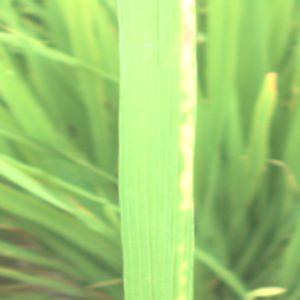2 BacterialBlight: (115, 1, 196, 300)
